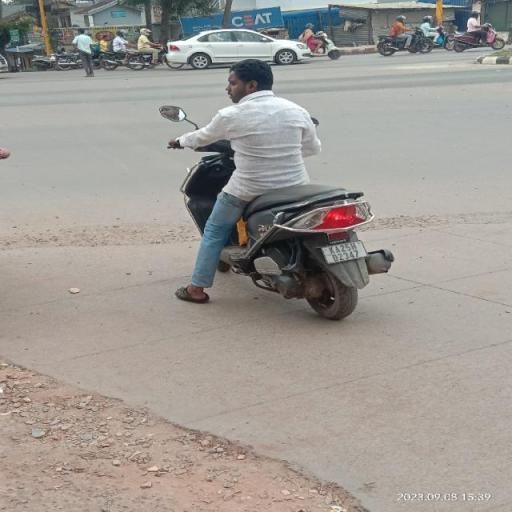bike: (160, 56, 400, 320)
numberplate: (318, 236, 365, 265)
withouthelmet: (230, 59, 272, 95)
